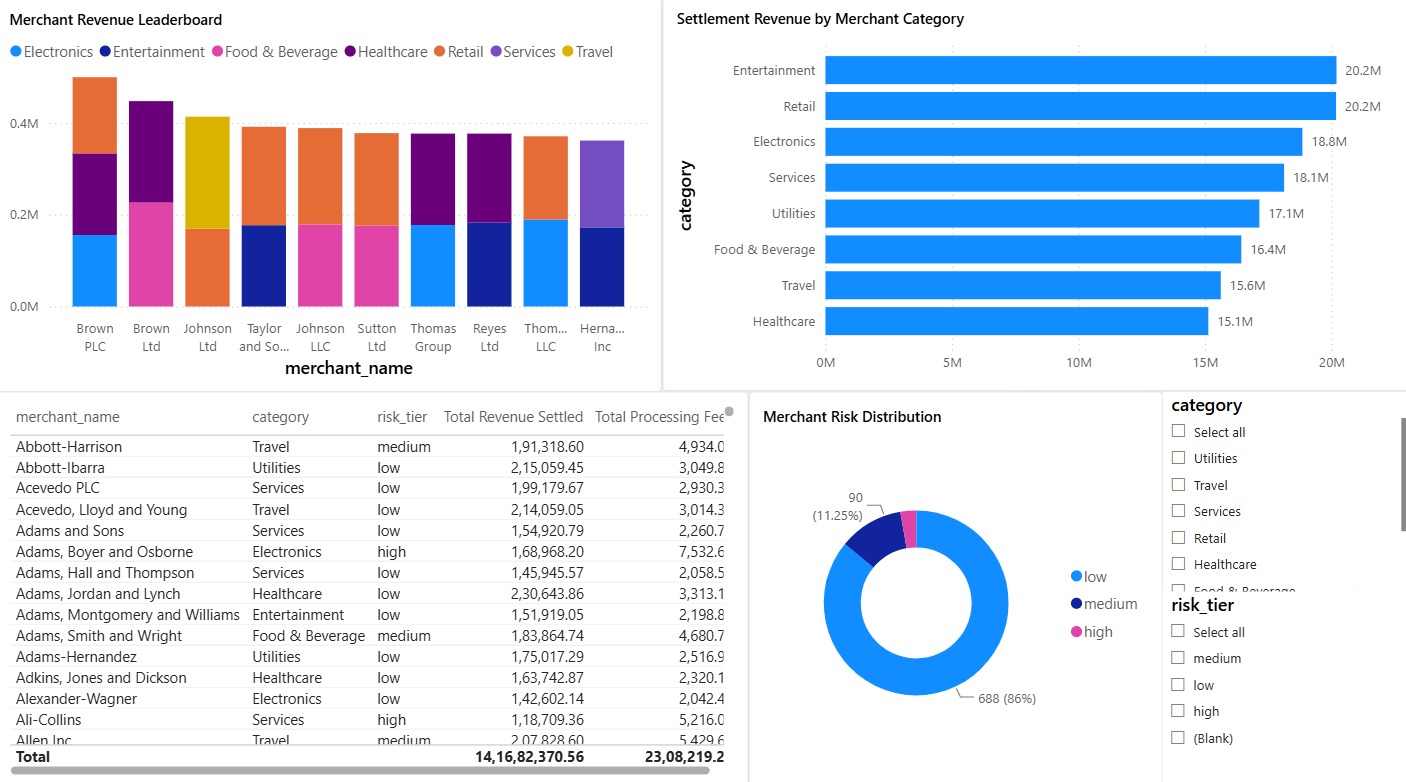

What the dashboard file says about the page in this screenshot:
{"tool":"powerbi","page":{"name":"Merchant Performance","canvas":[1280,720],"ordinal":1},"visuals":[{"type":"columnChart","title":"Merchant Revenue Leaderboard","fields":{"Category":["merchants.merchant_name"],"Y":["transactions.Total Revenue Settled"],"Series":["merchants.category"]},"box":[0,1.2,603.5,359.3],"z":0},{"type":"clusteredBarChart","title":"Settlement Revenue by Merchant Category","fields":{"Category":["merchants.category"],"Y":["transactions.Total Revenue Settled"]},"box":[603.8,0,676.1,359.5],"z":1000},{"type":"tableEx","fields":{"Values":["merchants.merchant_name","merchants.category","merchants.risk_tier","transactions.Total Revenue Settled","transactions.Total Processing Fees"]},"box":[0,359.5,681.8,360.7],"z":2000},{"type":"donutChart","title":"Merchant Risk Distribution","fields":{"Category":["merchants.risk_tier"],"Y":["CountNonNull(merchants.merchant_id)"]},"box":[681.8,359.5,374.2,360.7],"z":3000},{"type":"slicer","fields":{"Values":["merchants.category"]},"box":[1056,359.5,223.9,180.9],"z":4000},{"type":"slicer","fields":{"Values":["merchants.risk_tier"]},"box":[1056,541,224,179],"z":5000}]}

Visuals, with their boxes in screenshot pixels (x1, y1, x2, y2), scaled from the page's 1280x720 canvas onto the 1406x782 screenshot:
"Merchant Revenue Leaderboard" columnChart: (0, 1, 663, 392)
"Settlement Revenue by Merchant Category" clusteredBarChart: (663, 0, 1405, 390)
tableEx - merchants.merchant_name x merchants.category: (0, 390, 749, 781)
"Merchant Risk Distribution" donutChart: (749, 390, 1160, 781)
slicer - merchants.category: (1160, 390, 1405, 587)
slicer - merchants.risk_tier: (1160, 588, 1405, 781)
